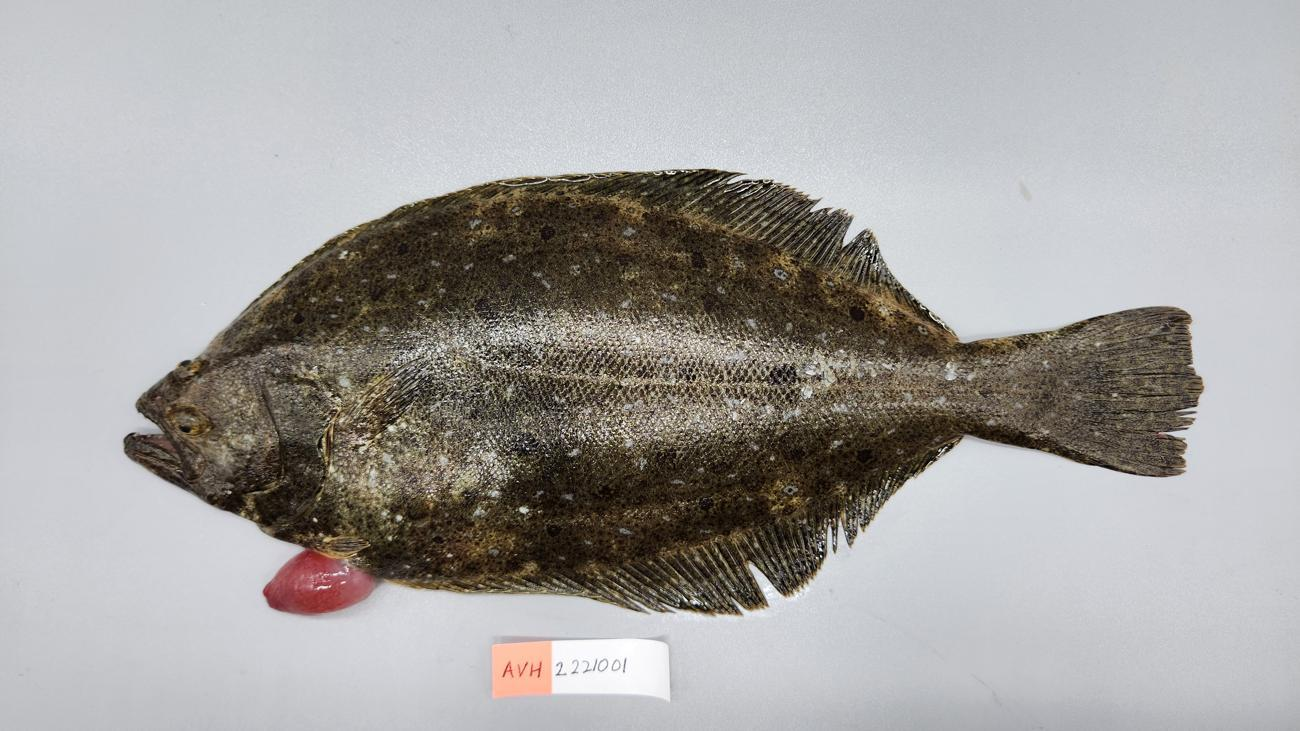VIFCH: (1123, 306, 1204, 478)
VIOUY: (126, 167, 1198, 615)
